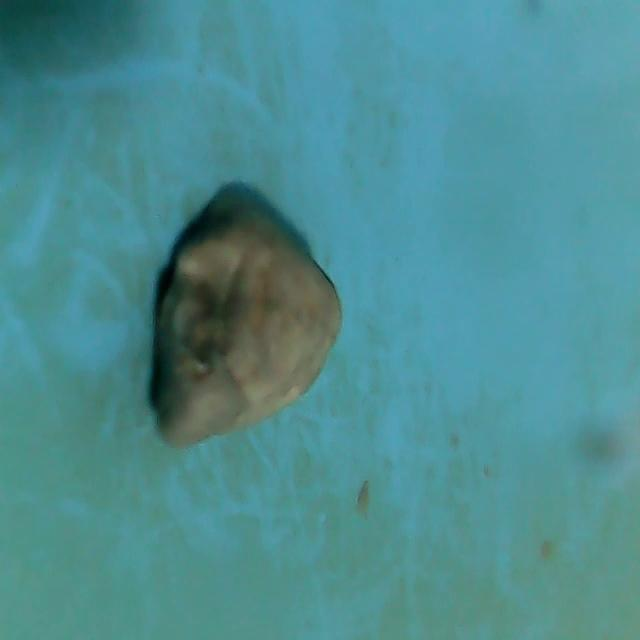rock: (151, 196, 350, 459)
